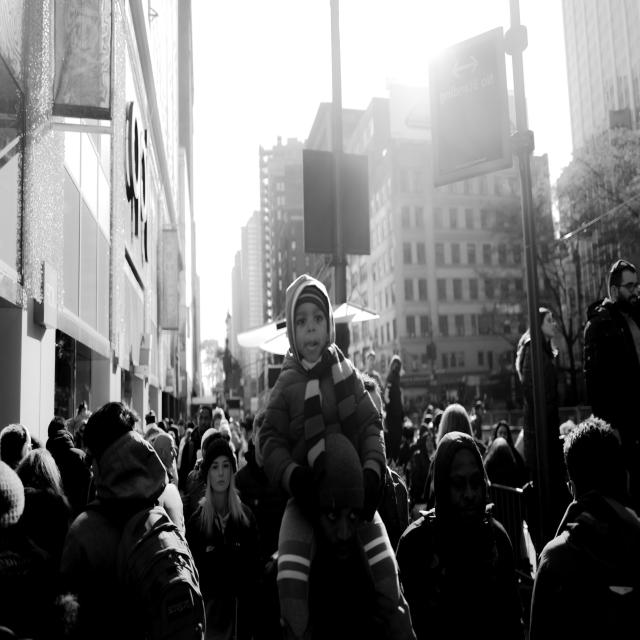adult: (258, 275, 417, 640), (395, 433, 515, 640), (532, 418, 639, 640), (288, 436, 403, 640), (188, 434, 255, 634), (584, 259, 639, 484), (516, 307, 560, 505)
